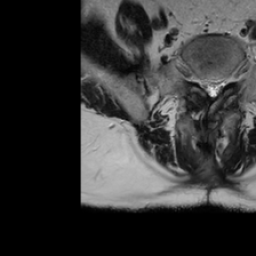CCS_stenosis: (209, 70, 215, 103)
LFS_normal: (223, 69, 231, 90)
LLS_normal: (217, 73, 222, 95)
RFS_normal: (194, 69, 202, 91)
RLS_normal: (203, 73, 210, 95)
